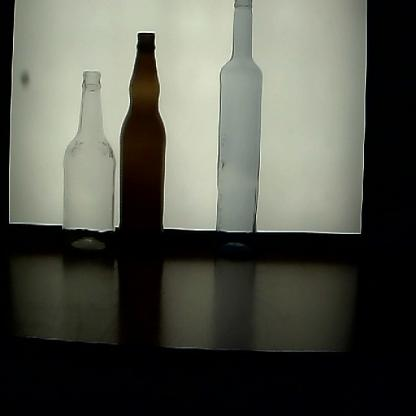Can: (212, 0, 267, 262), (118, 31, 168, 264), (61, 68, 118, 268)
